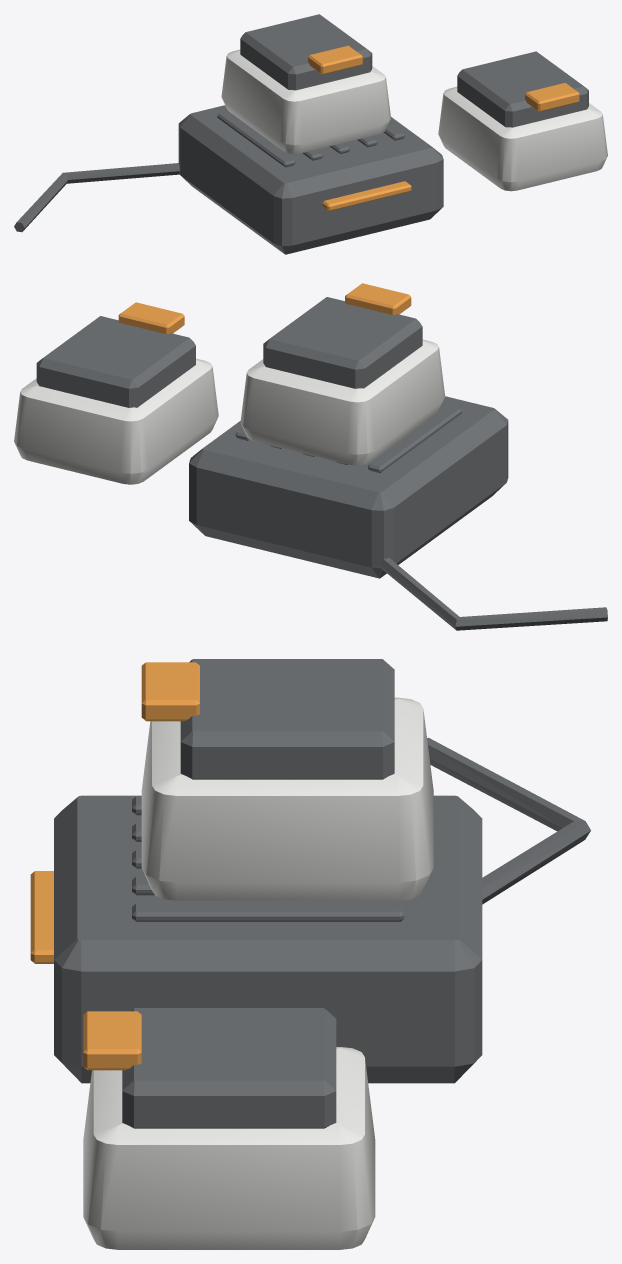
The model's file is cordless-battery-and-charger.glb.
3 renders of one model, top to bottom at view 1: azimuth 30°, elevation 25°; view 2: azimuth 150°, elevation 25°; view 3: azimuth 270°, elevation 25°, orthographic. The views are drawn at different scales.
Parts seen in each view (by area): view 1: cordless-battery-and-charger; view 2: cordless-battery-and-charger; view 3: cordless-battery-and-charger.
Boxes of the visible parts, x1=… form: cordless-battery-and-charger: x1=14, y1=14, x2=607, y2=254; cordless-battery-and-charger: x1=14, y1=283, x2=607, y2=630; cordless-battery-and-charger: x1=30, y1=659, x2=590, y2=1249.
Bounding box in the file's own units: 0.6087 × 0.188 × 0.288.
